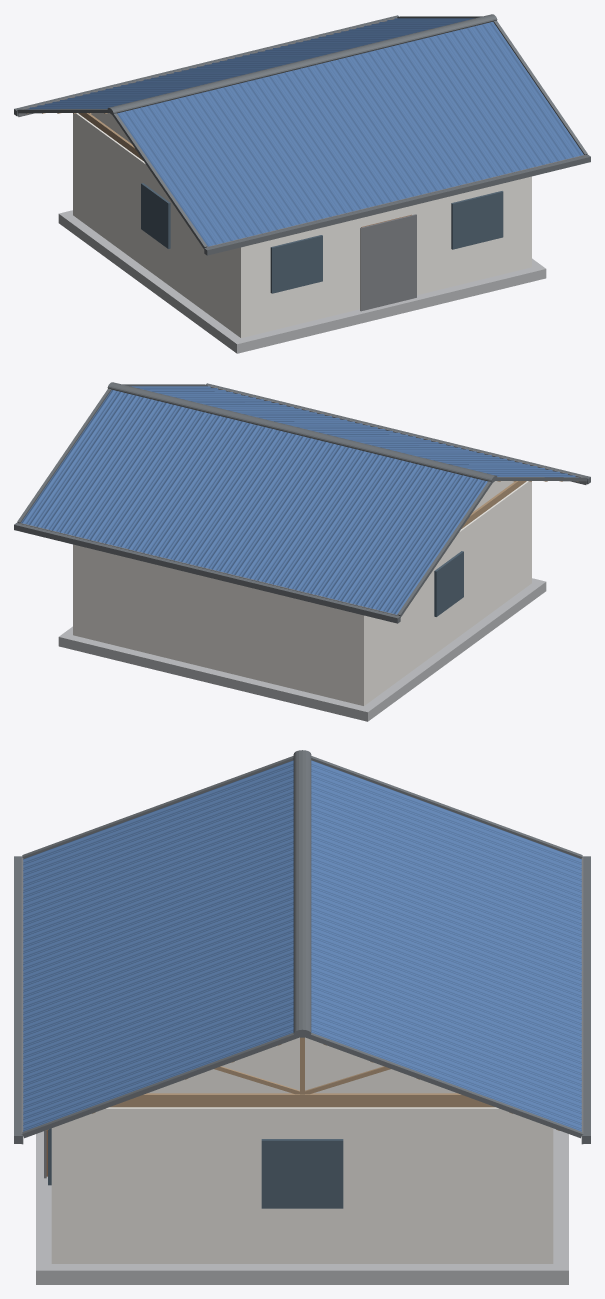
The model's file is Mega_Six_Ribs_Single_Storey_8x8.glb.
The picture shows the model from 3 angles, top to bottom: view 1: azimuth 30°, elevation 25°; view 2: azimuth 150°, elevation 25°; view 3: azimuth 270°, elevation 25°; orthographic projection. The views are drawn at different scales.
Visible parts, largest first — view 1: GroundFloor_Walls, Foundation, RoofSheet_07, RoofSheet_06, RoofSheet_03, RoofSheet_02, RoofSheet_04, RoofSheet_05, RoofSheet_09, RoofSheet_08, RoofSheet_10, RoofSheet_01 (+22 smaller); view 2: GroundFloor_Walls, Foundation, RoofSheet_17, RoofSheet_16, RoofSheet_13, RoofSheet_12, RoofSheet_14, RoofSheet_15, RoofSheet_19, RoofSheet_18, RoofSheet_20, RoofSheet_11 (+19 smaller); view 3: GroundFloor_Walls, Foundation, Gable_Wall_Right, RoofSheet_02, RoofSheet_04, RoofSheet_06, RoofSheet_07, RoofSheet_09, RoofSheet_12, RoofSheet_14, RoofSheet_16, RoofSheet_17 (+23 smaller).
Boxes of the visible parts, x1,y1,x2,y2 form: GroundFloor_Walls: (73, 113, 531, 337); Foundation: (58, 210, 546, 353); RoofSheet_07: (343, 49, 471, 191); RoofSheet_06: (305, 58, 433, 200); RoofSheet_03: (191, 86, 319, 228); RoofSheet_02: (153, 95, 281, 237); RoofSheet_04: (229, 77, 357, 219); RoofSheet_05: (267, 68, 395, 209); RoofSheet_09: (419, 30, 547, 172); RoofSheet_08: (381, 40, 509, 182); RoofSheet_10: (457, 22, 583, 163); RoofSheet_01: (117, 105, 243, 246); GroundFloor_Walls: (73, 481, 531, 705); Foundation: (58, 578, 546, 721); RoofSheet_17: (133, 417, 261, 559); RoofSheet_16: (171, 426, 299, 568); RoofSheet_13: (285, 454, 413, 596); RoofSheet_12: (323, 463, 451, 605); RoofSheet_14: (247, 445, 375, 587); RoofSheet_15: (209, 436, 337, 577); RoofSheet_19: (57, 398, 185, 540); RoofSheet_18: (95, 408, 223, 550); RoofSheet_20: (21, 390, 147, 531); RoofSheet_11: (361, 473, 487, 614); GroundFloor_Walls: (51, 1107, 553, 1263); Foundation: (36, 1128, 568, 1284); Gable_Wall_Right: (148, 1037, 456, 1093); RoofSheet_02: (23, 786, 293, 912); RoofSheet_04: (23, 842, 293, 968); RoofSheet_06: (23, 897, 293, 1023); RoofSheet_07: (23, 925, 293, 1051); RoofSheet_09: (23, 980, 293, 1106); RoofSheet_12: (311, 786, 581, 912); RoofSheet_14: (311, 842, 581, 968); RoofSheet_16: (311, 897, 581, 1023); RoofSheet_17: (311, 925, 581, 1051).
Bounding box in the file's own units: 10.55 × 4.97 × 9.2.
